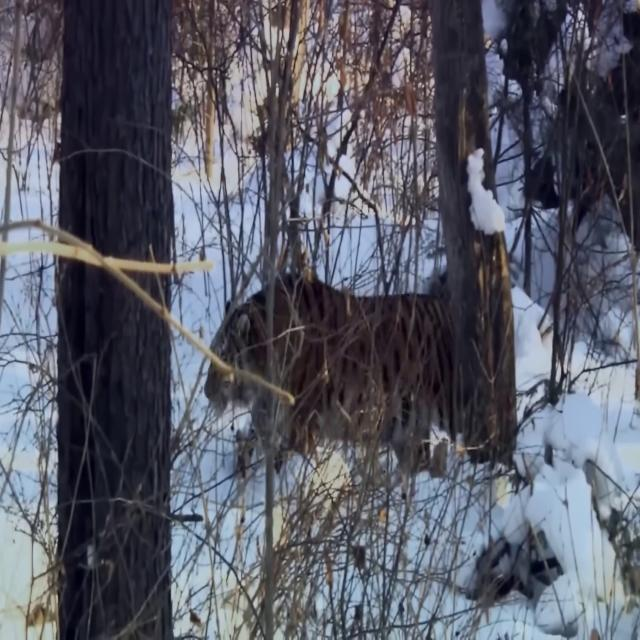tiger: (205, 268, 451, 489)
